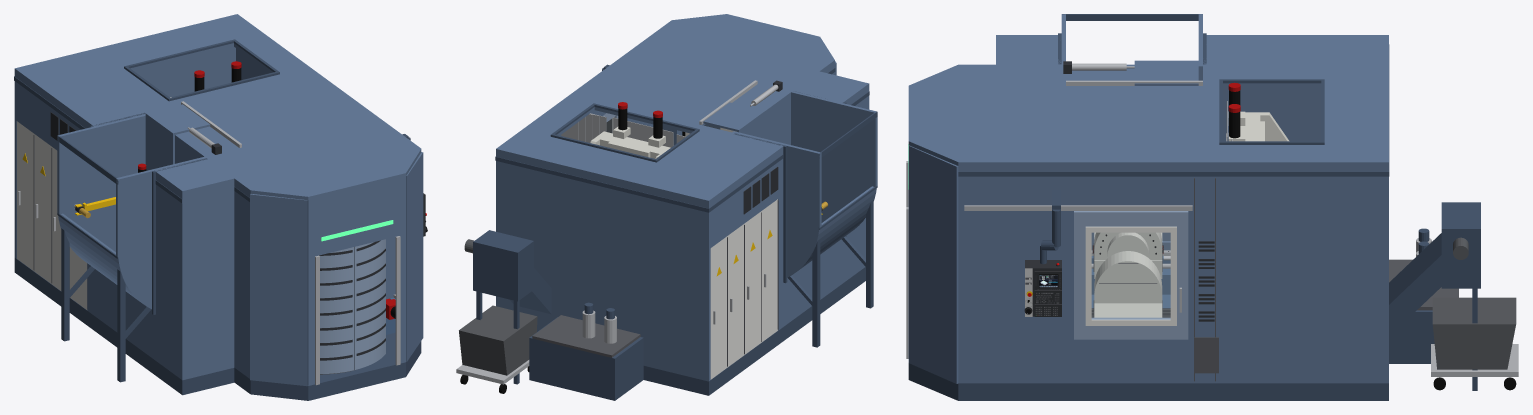
Rendered from hmc_x800_5ax_blue_right.glb.
The picture shows the model from 3 angles, left to right: view 1: azimuth 30°, elevation 25°; view 2: azimuth 150°, elevation 25°; view 3: azimuth 270°, elevation 25°; orthographic projection. The views are drawn at different scales.
Visible parts, largest first — view 1: enclosure__fms_blue, apc_housing__fms_blue, tc_box__fms_blue, electrical_cabinet__hmc_white, enclosure__fms_blue_dk, apc_door_left__door_blue, apc_housing__fms_blue_dk, apc_door_right__door_blue, tc_box__fms_blue_dk, tc_door__fms_blue, apc_housing__steel, apc_door_left__anthracite (+4 smaller); view 2: enclosure__fms_blue, tc_box__fms_blue, chip_coolant__fms_blue_dk, electrical_cabinet__hmc_white, enclosure__fms_blue_dk, apc_housing__fms_blue, chip_cart__steel_dark, tc_box__fms_blue_dk, chip_coolant__anthracite_lt, tc_door__fms_blue, column__struct_grey, enclosure__anthracite (+6 smaller); view 3: enclosure__fms_blue, apc_housing__fms_blue, enclosure__fms_blue_dk, chip_coolant__fms_blue_dk, operator_door__glass_clear, operator_door__door_blue, chip_cart__steel_dark, table__struct_grey, operator_door__hmc_white, enclosure__steel, apc_housing__fms_blue_dk, tc_door__fms_blue (+12 smaller).
Part boxes in pixels (x1,y1,x2,y2): enclosure__fms_blue: [14, 14, 404, 380]; apc_housing__fms_blue: [234, 137, 423, 386]; tc_box__fms_blue: [57, 114, 205, 309]; electrical_cabinet__hmc_white: [17, 121, 87, 309]; enclosure__fms_blue_dk: [14, 39, 279, 395]; apc_door_left__door_blue: [320, 247, 354, 373]; apc_housing__fms_blue_dk: [234, 187, 421, 400]; apc_door_right__door_blue: [354, 239, 385, 369]; tc_box__fms_blue_dk: [57, 135, 151, 382]; tc_door__fms_blue: [145, 104, 210, 170]; apc_housing__steel: [315, 236, 400, 385]; apc_door_left__anthracite: [319, 250, 352, 360]; enclosure__fms_blue: [496, 31, 869, 381]; tc_box__fms_blue: [735, 91, 877, 277]; chip_coolant__fms_blue_dk: [473, 230, 643, 400]; electrical_cabinet__hmc_white: [710, 199, 777, 379]; enclosure__fms_blue_dk: [495, 91, 869, 395]; apc_housing__fms_blue: [656, 14, 836, 135]; chip_cart__steel_dark: [459, 305, 537, 375]; tc_box__fms_blue_dk: [788, 111, 877, 347]; chip_coolant__anthracite_lt: [532, 315, 640, 357]; tc_door__fms_blue: [703, 102, 765, 138]; column__struct_grey: [590, 126, 670, 158]; enclosure__anthracite: [743, 80, 782, 214]; enclosure__fms_blue: [996, 35, 1388, 383]; apc_housing__fms_blue: [908, 64, 995, 383]; enclosure__fms_blue_dk: [996, 33, 1389, 400]; chip_coolant__fms_blue_dk: [1389, 202, 1480, 390]; operator_door__glass_clear: [1092, 233, 1169, 318]; operator_door__door_blue: [1074, 211, 1188, 339]; chip_cart__steel_dark: [1432, 297, 1516, 369]; table__struct_grey: [1094, 232, 1162, 317]; operator_door__hmc_white: [1085, 226, 1176, 325]; enclosure__steel: [964, 63, 1202, 210]; apc_housing__fms_blue_dk: [908, 171, 995, 400]; tc_door__fms_blue: [1134, 60, 1198, 239].
Bounding box in the file's own units: 4.54 × 3.22 × 6.98.
Materials: 22 (2 with a texture image).
